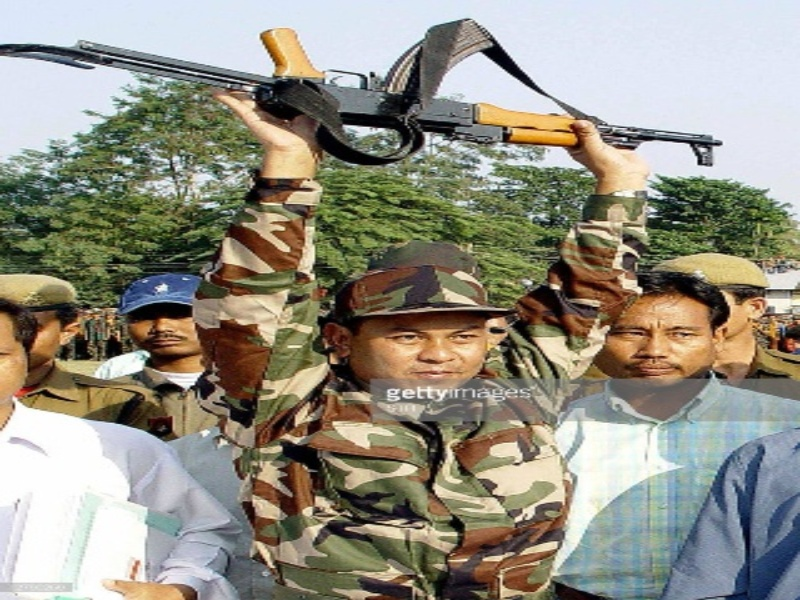person: (192, 89, 652, 600), (555, 272, 800, 600), (1, 297, 241, 600), (1, 273, 179, 444), (650, 253, 800, 404), (93, 273, 219, 437)
weapon: (1, 17, 723, 166)
